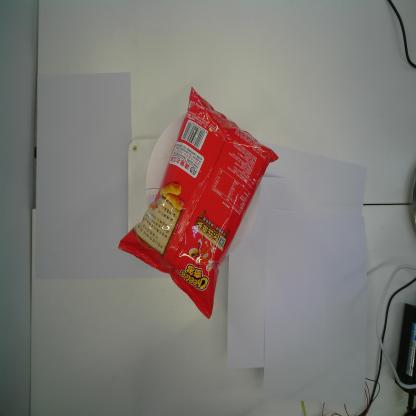Puffed Food: (116, 83, 281, 322)
